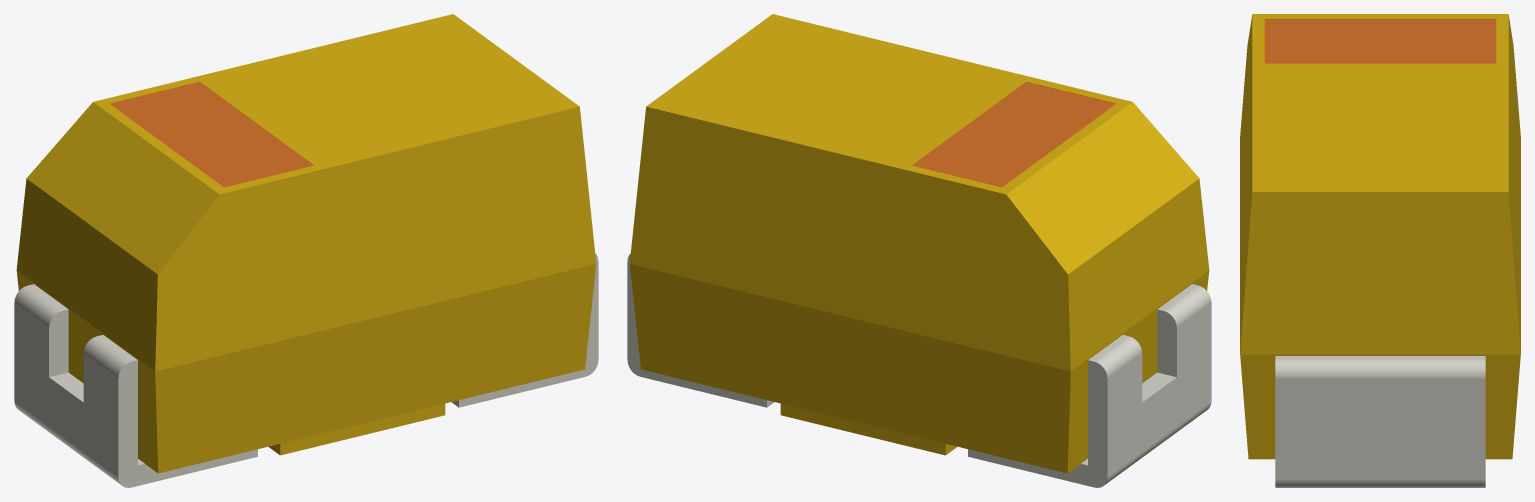
Rendered from CP_EIA-3216-18_Kemet-A.glb.
3 renders of one model, left to right at view 1: azimuth 30°, elevation 25°; view 2: azimuth 150°, elevation 25°; view 3: azimuth 270°, elevation 25°, orthographic.
Parts seen in each view (by area): view 1: =>[0:1:1:3]; view 2: =>[0:1:1:3]; view 3: =>[0:1:1:3].
Boxes of the visible parts, <box> form: =>[0:1:1:3]: <box>14,14,598,487</box>; =>[0:1:1:3]: <box>627,14,1211,487</box>; =>[0:1:1:3]: <box>1240,14,1520,487</box>.
Size of the model in its own units: 0.0032 by 0.0018 by 0.0016.
